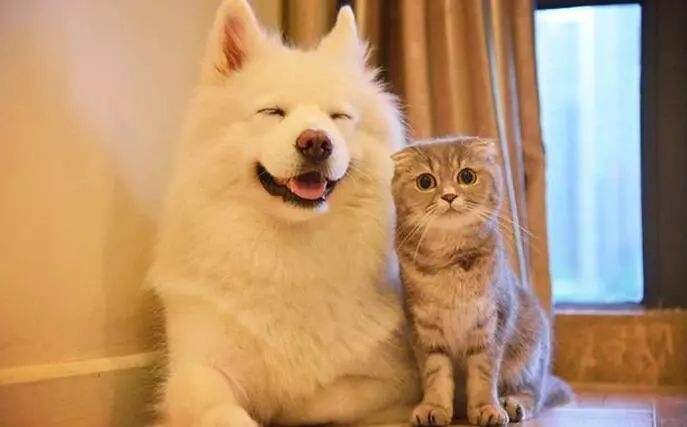cat: (384, 132, 580, 425)
